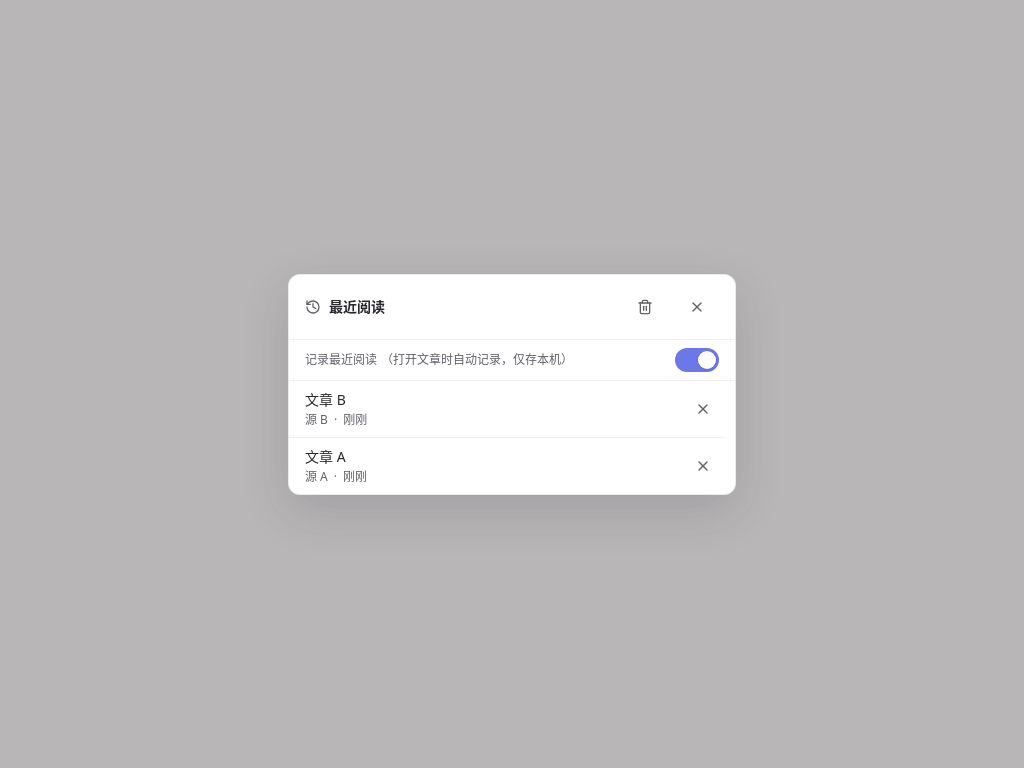
Test case: RecentReads 面板 › 单条移除与清空
Click the button named "移除「文章 A」": point(703, 466) [681,438,725,494]
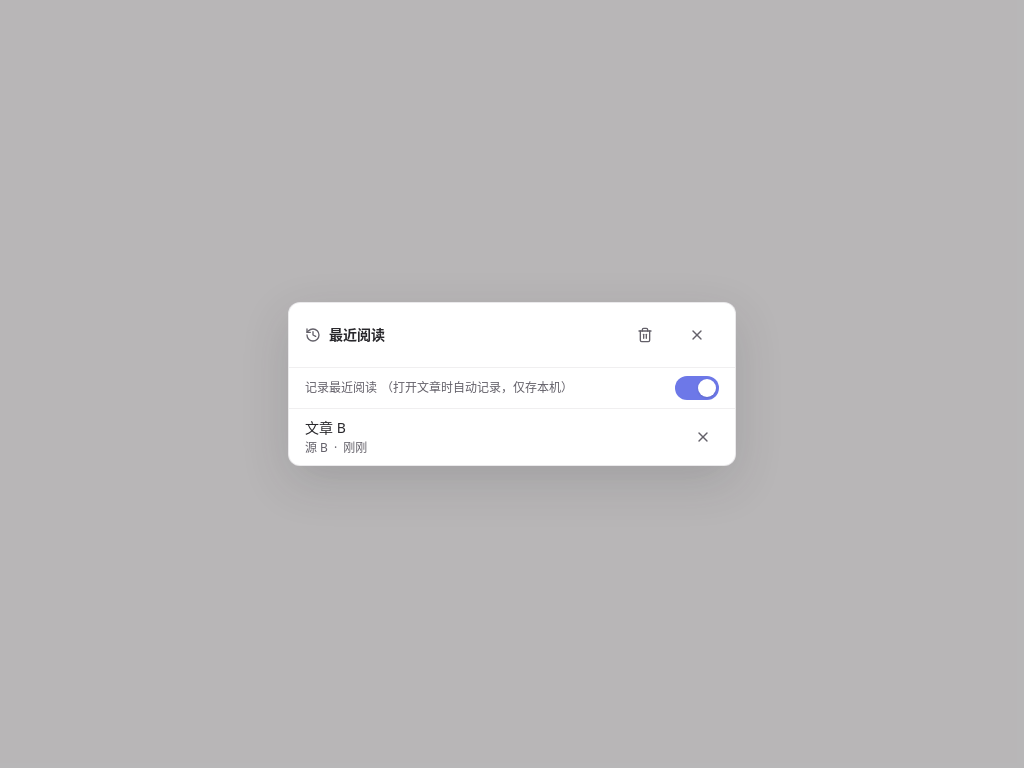
Result: the button "文章 A" is gone
Click the button named "清空最近阅读": point(645, 335) [623,313,667,357]
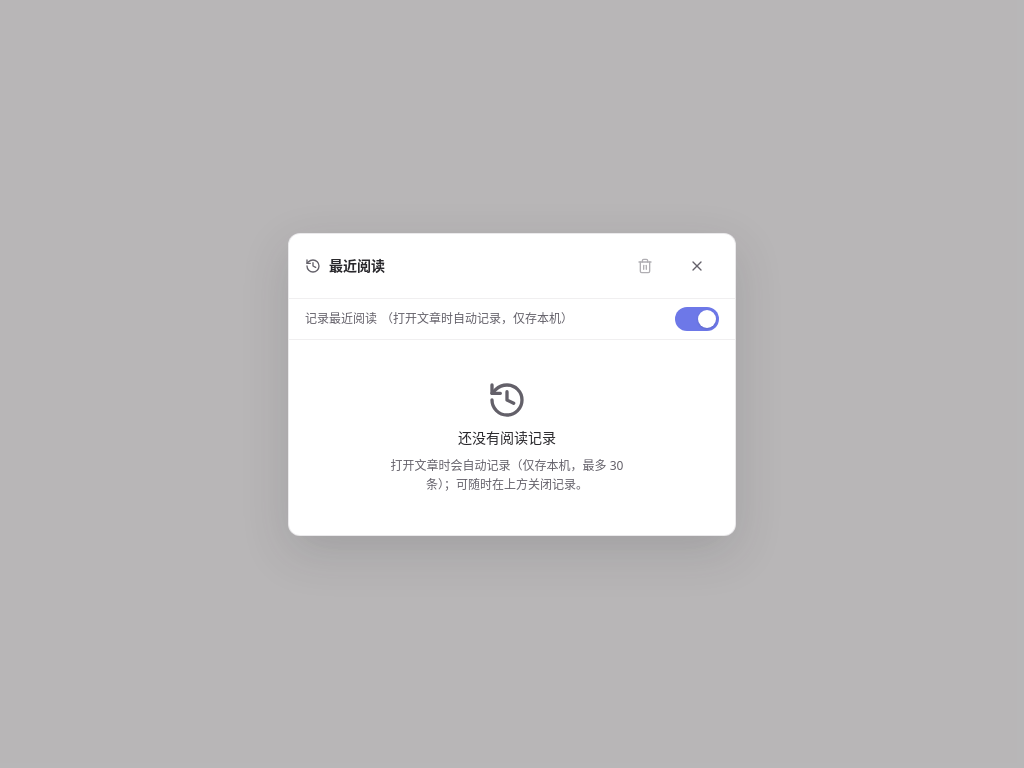
Result: the text "还没有阅读记录" is shown at [458,428,556,448]
